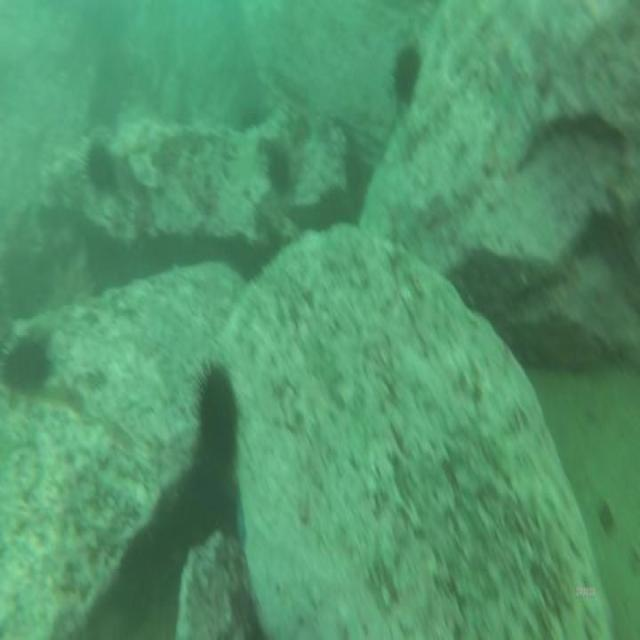echinus: (198, 373, 238, 465), (4, 338, 44, 390), (86, 147, 114, 194), (394, 48, 417, 101), (266, 147, 290, 193)
